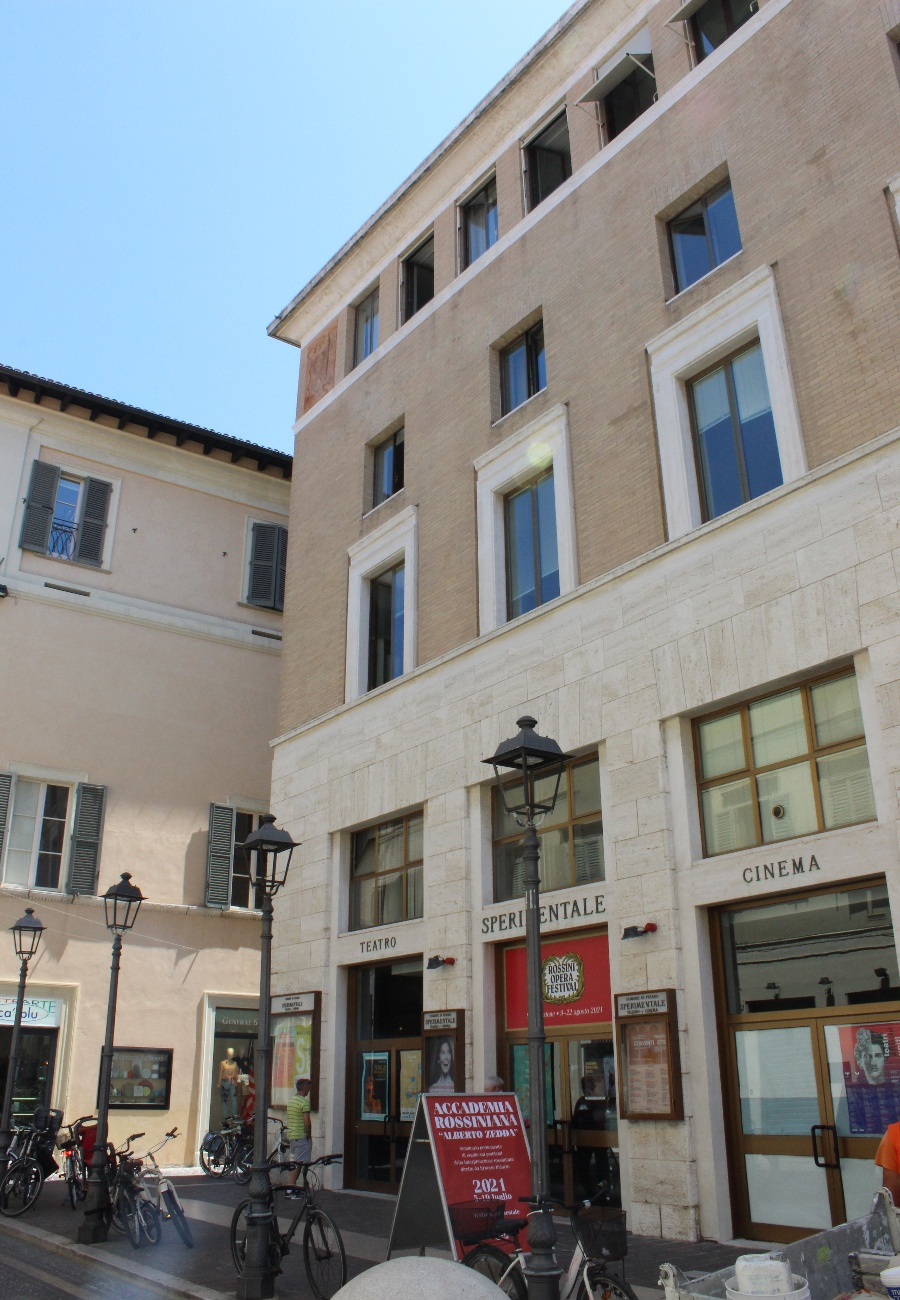Teatro Sperimentale: (264, 1, 898, 1229)
